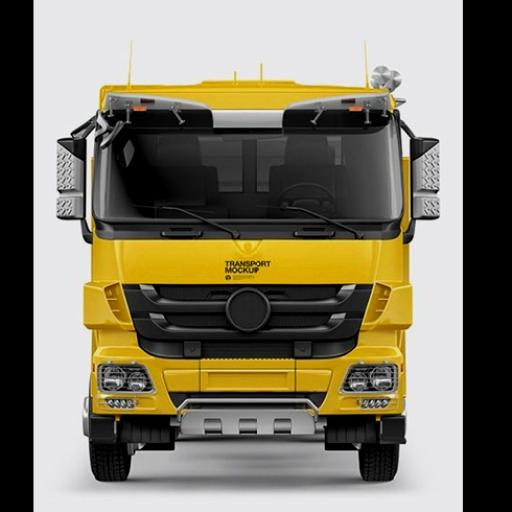truck: (56, 32, 446, 482)
